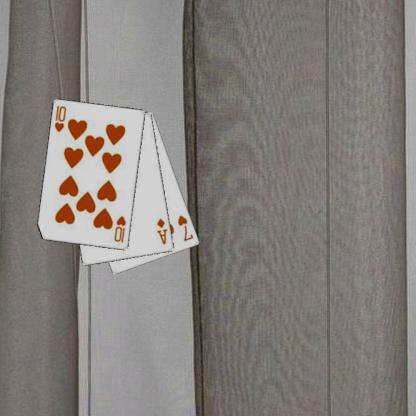10H: (112, 213, 127, 244), (52, 103, 67, 134)
7H: (175, 212, 195, 243)
AD: (154, 216, 169, 246)
